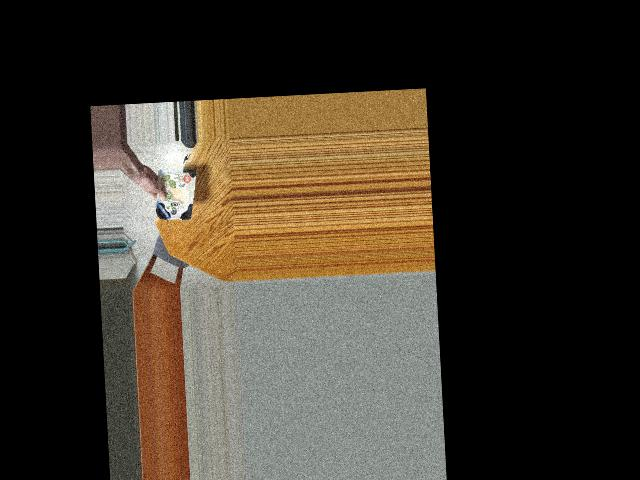cheese: (151, 162, 198, 228)
